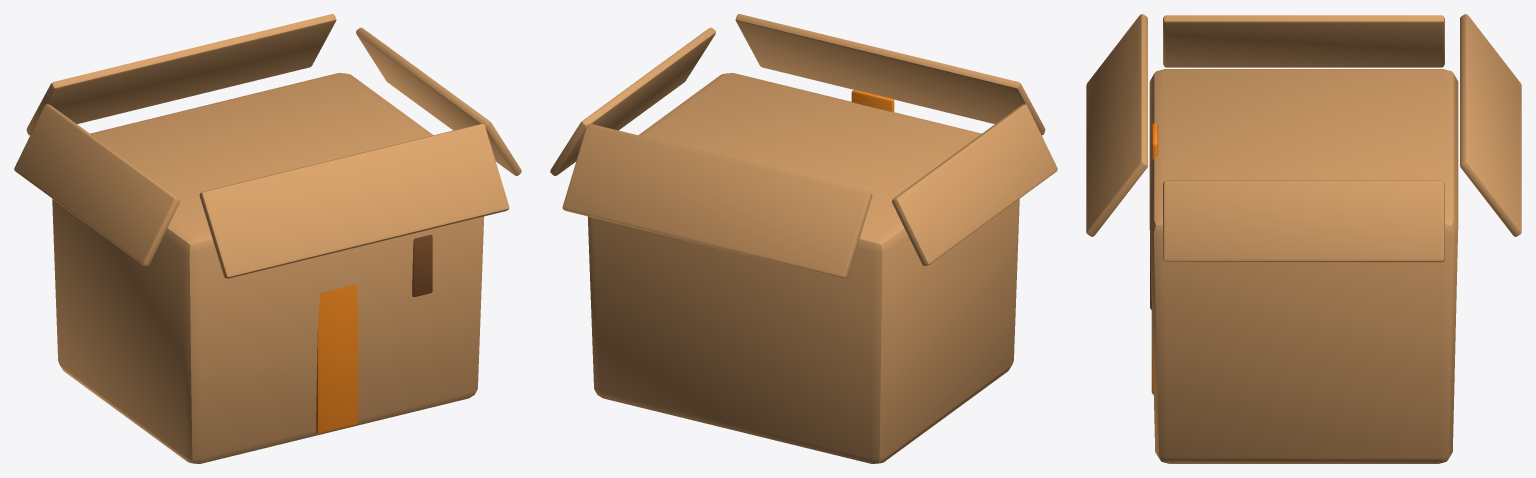
The model's file is W1_Crate_B.fbx.
The picture shows the model from 3 angles, left to right: view 1: azimuth 30°, elevation 25°; view 2: azimuth 150°, elevation 25°; view 3: azimuth 270°, elevation 25°; orthographic projection. The views are drawn at different scales.
Visible parts, largest first — view 1: W1_Crate_B; view 2: W1_Crate_B; view 3: W1_Crate_B.
Boxes of the visible parts, bbox=[...] form: W1_Crate_B: bbox=[14, 14, 521, 463]; W1_Crate_B: bbox=[550, 14, 1057, 463]; W1_Crate_B: bbox=[1086, 14, 1521, 463].
Bounding box in the file's own units: 1.44 × 1.03 × 1.33.
